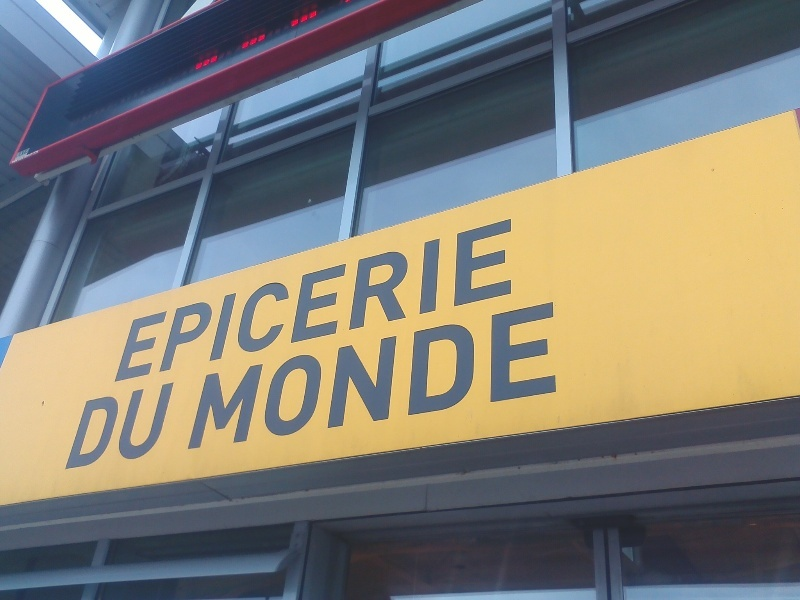text: (497, 217, 513, 384), (145, 217, 160, 384), (161, 217, 176, 384), (177, 217, 192, 384), (193, 217, 208, 384), (209, 217, 224, 384), (225, 217, 240, 384), (241, 217, 256, 384), (257, 217, 272, 384), (273, 217, 288, 384), (289, 217, 304, 384), (305, 217, 320, 384), (321, 217, 336, 384), (337, 217, 352, 384), (353, 217, 368, 384), (369, 217, 384, 384), (385, 217, 400, 384), (401, 217, 416, 384), (417, 217, 432, 384), (433, 217, 448, 384), (449, 217, 464, 384), (465, 217, 480, 384), (481, 217, 496, 384), (209, 301, 224, 451), (225, 301, 240, 451), (241, 301, 256, 451), (257, 301, 272, 451), (273, 301, 288, 451), (289, 301, 304, 451), (305, 301, 320, 451), (321, 301, 336, 451), (337, 301, 352, 451), (353, 301, 368, 451), (369, 301, 384, 451), (385, 301, 400, 451), (401, 301, 416, 451), (417, 301, 432, 451), (433, 301, 448, 451), (449, 301, 464, 451), (465, 301, 480, 451), (481, 301, 496, 451), (497, 301, 512, 451), (513, 301, 528, 451), (529, 301, 544, 451), (545, 301, 558, 451), (134, 217, 144, 384), (97, 381, 112, 471), (113, 381, 128, 471), (129, 381, 144, 471), (145, 381, 160, 471), (161, 381, 176, 471), (86, 381, 96, 471), (206, 301, 208, 451)
